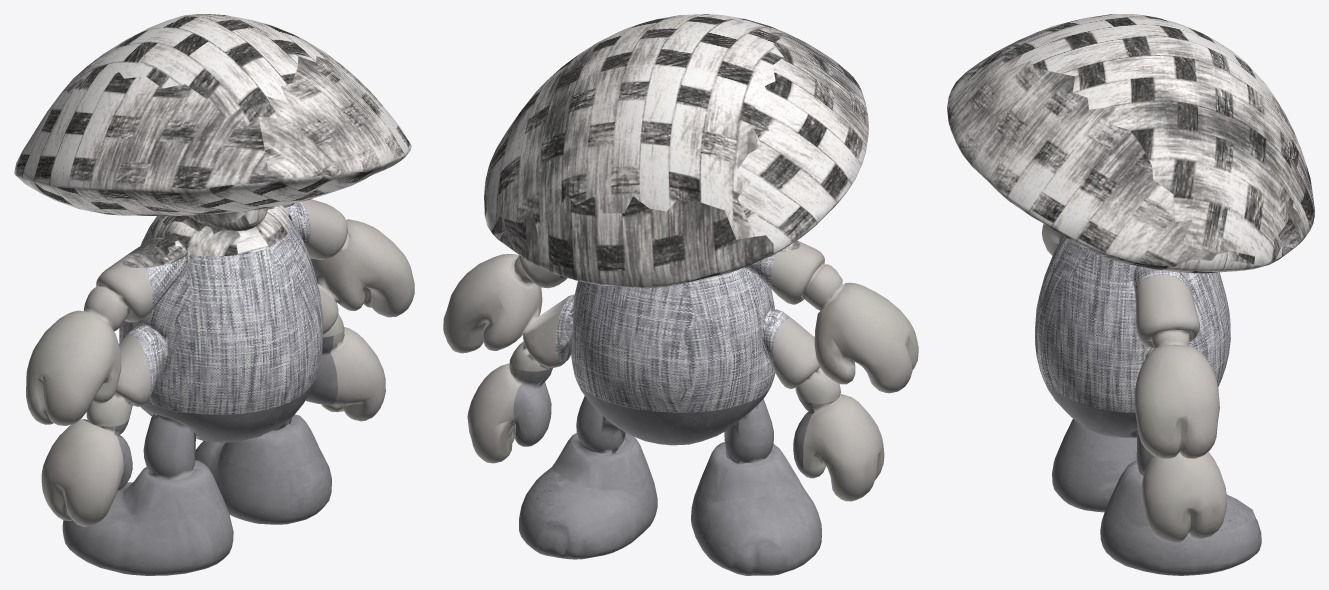
File: 17-shellcap-manyarm--3d_character_figurine.glb
The picture shows the model from 3 angles, left to right: view 1: azimuth 30°, elevation 25°; view 2: azimuth 150°, elevation 25°; view 3: azimuth 270°, elevation 25°; orthographic projection. The views are drawn at different scales.
Visible parts, largest first — view 1: head_mesh, arms_mesh, feet_mesh, body_mesh; view 2: head_mesh, feet_mesh, arms_mesh, body_mesh; view 3: head_mesh, arms_mesh, body_mesh, feet_mesh.
Part boxes in pixels (x1,y1,x2,y2): head_mesh: (14, 14, 411, 267); arms_mesh: (26, 199, 414, 526); feet_mesh: (62, 336, 337, 575); body_mesh: (119, 201, 322, 414); head_mesh: (484, 14, 868, 288); feet_mesh: (513, 368, 821, 575); arms_mesh: (443, 240, 918, 501); body_mesh: (555, 253, 792, 412); head_mesh: (947, 14, 1314, 273); arms_mesh: (1042, 224, 1226, 542); body_mesh: (1035, 236, 1230, 412); feet_mesh: (1043, 350, 1261, 575).
Size of the model in its own units: 2.62 by 3 by 2.05.
Materials: 4 (4 with a texture image).
